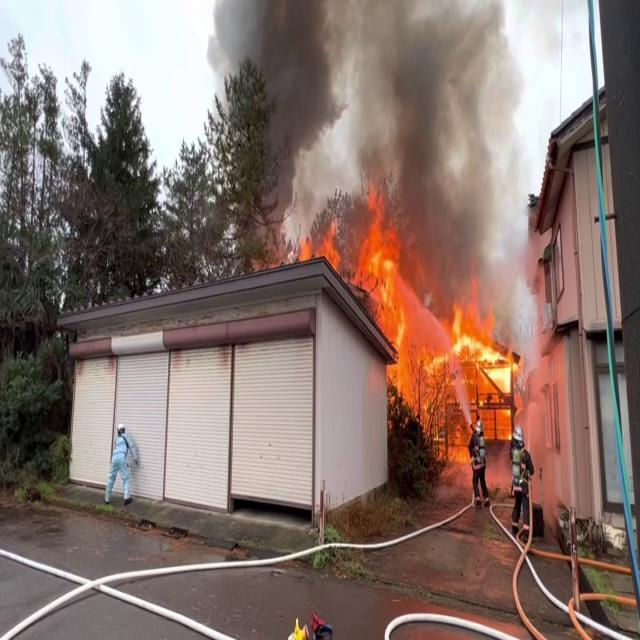Fire: (358, 222, 520, 405)
Smoke: (228, 0, 537, 264)
